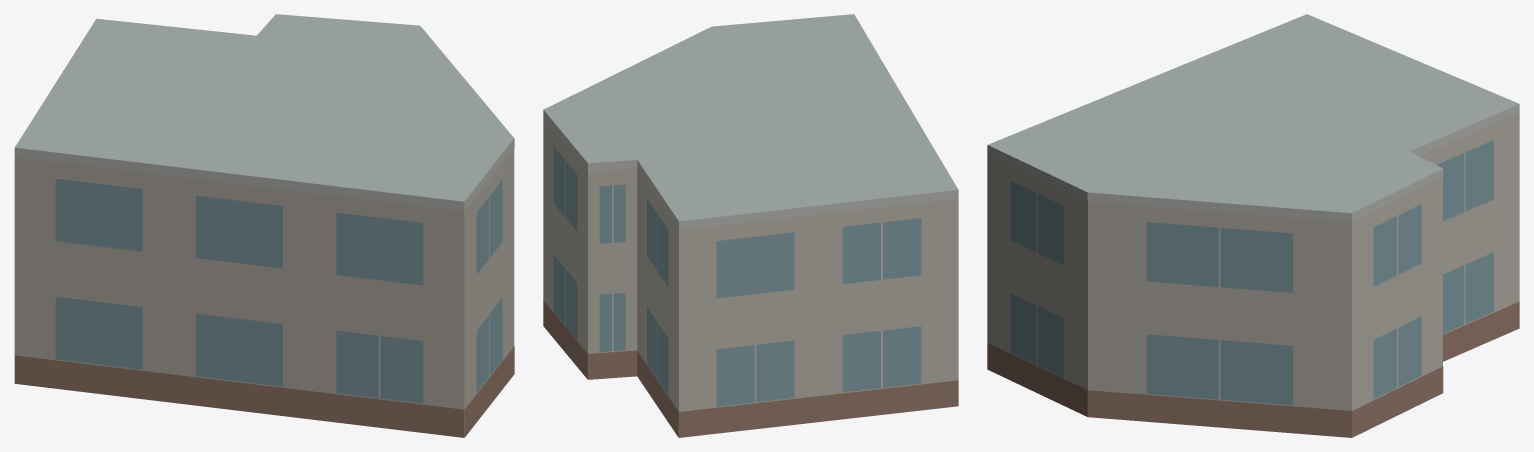
The model's file is survey-upis-32925228.glb.
The picture shows the model from 3 angles, left to right: view 1: azimuth 30°, elevation 25°; view 2: azimuth 150°, elevation 25°; view 3: azimuth 270°, elevation 25°; orthographic projection. The views are drawn at different scales.
Parts seen in each view (by area): view 1: survey-upis-32925228.tmp; view 2: survey-upis-32925228.tmp; view 3: survey-upis-32925228.tmp.
Part boxes in pixels (left/top/right/bottom): survey-upis-32925228.tmp: left=14, top=14, right=514, bottom=437; survey-upis-32925228.tmp: left=543, top=14, right=958, bottom=437; survey-upis-32925228.tmp: left=987, top=14, right=1519, bottom=437.
Size of the model in its own units: 11.61 by 6.1 by 13.11.
